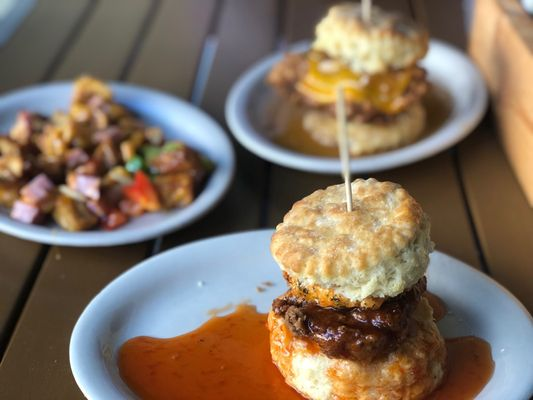soup: (268, 179, 449, 400), (250, 0, 431, 158)
sushi: (0, 76, 235, 252)
